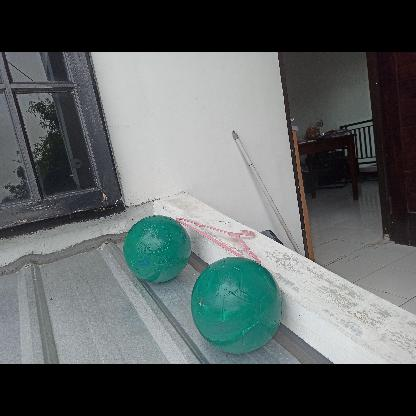green_ball: (189, 257, 283, 351), (123, 214, 189, 280)
